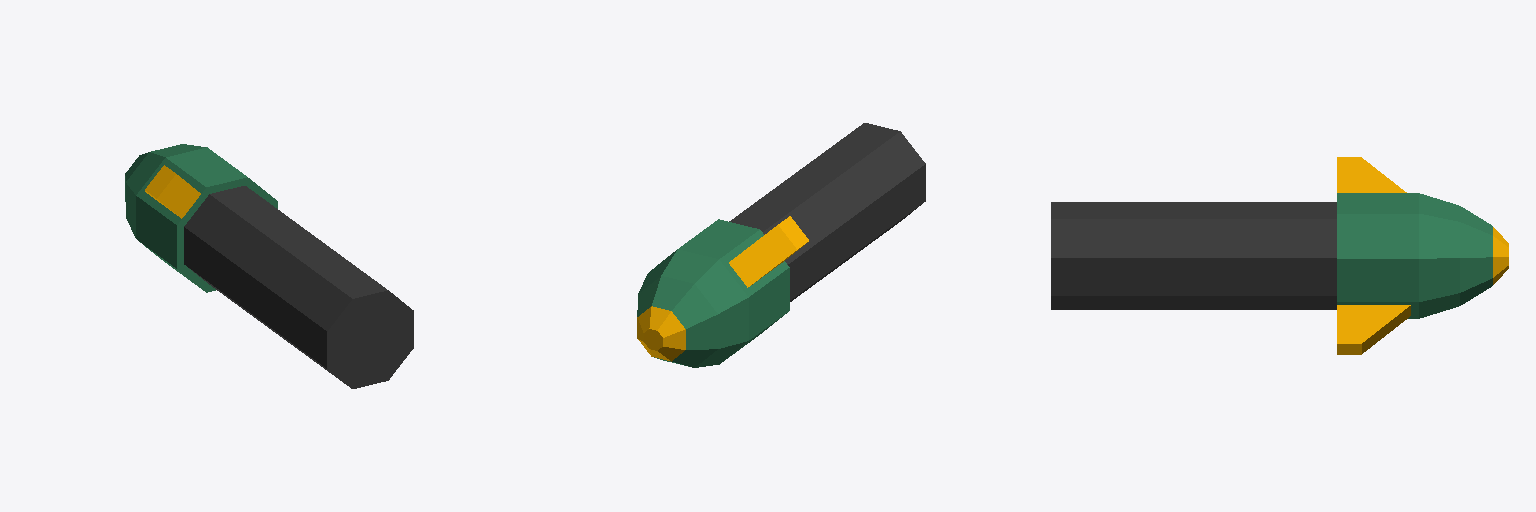
File: ammo_rocketModern.obj
The picture shows the model from 3 angles: view 1: azimuth 30°, elevation 25°; view 2: azimuth 150°, elevation 25°; view 3: azimuth 270°, elevation 25°; orthographic projection.
Visible parts, largest first — view 1: ammo_rocketModern; view 2: ammo_rocketModern; view 3: ammo_rocketModern.
Boxes of the visible parts, x1=… form: ammo_rocketModern: x1=125, y1=144, x2=413, y2=388; ammo_rocketModern: x1=637, y1=123, x2=925, y2=367; ammo_rocketModern: x1=1051, y1=157, x2=1508, y2=354.
Size of the model in its own units: 0.076 by 0.076 by 0.2144.